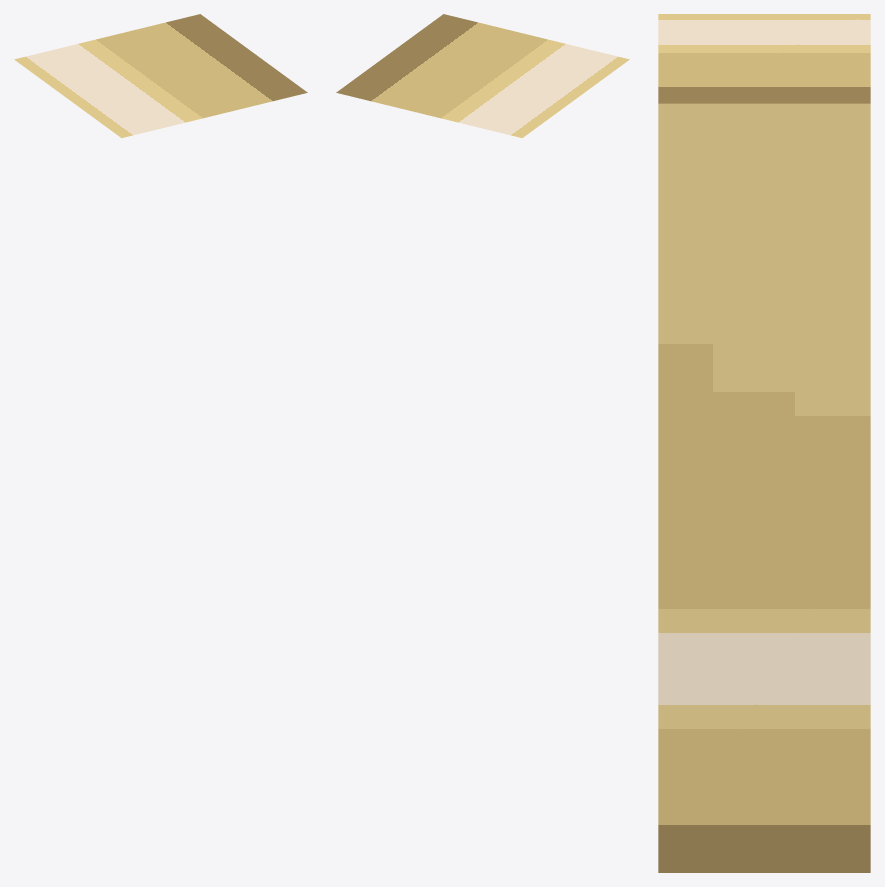
3 renders of one model, left to right at view 1: azimuth 30°, elevation 25°; view 2: azimuth 150°, elevation 25°; view 3: azimuth 270°, elevation 25°, orthographic.
Bounding box in the file's own units: 1 × 4 × 1.
Materials: 1 (1 with a texture image).
